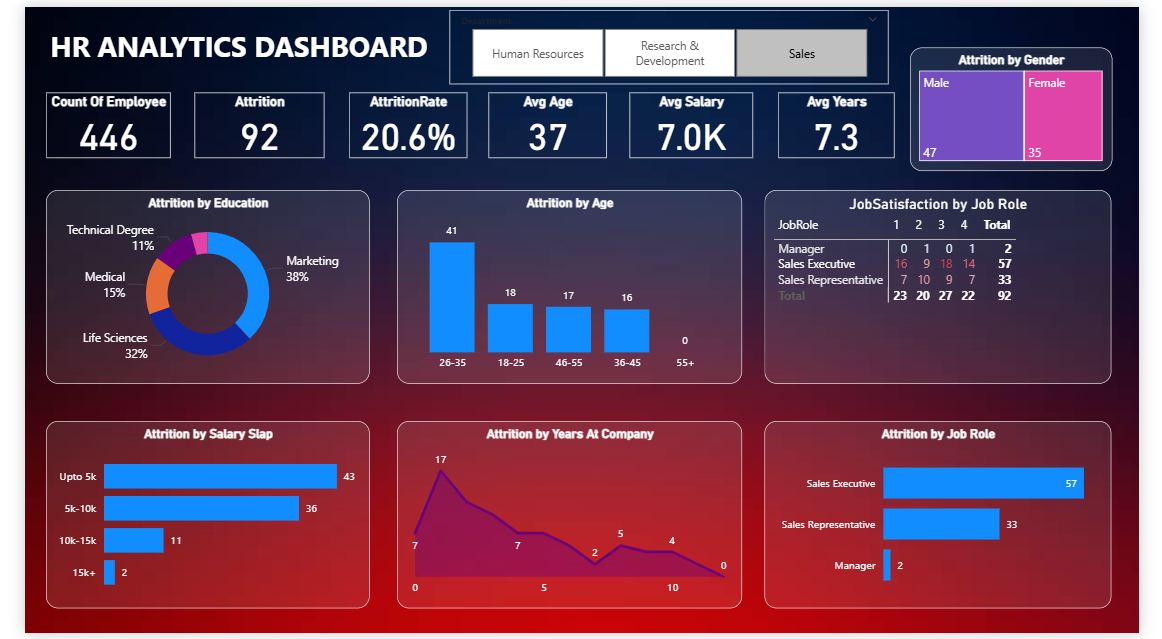

This screenshot's page, from the dashboard's own definition file:
{"tool":"powerbi","page":{"name":"Page 1","canvas":[1280,720],"ordinal":0},"visuals":[{"type":"card","title":"Count Of Employee","fields":{"Values":["CountNonNull(HR_Analytics.EmpID)"]},"box":[24.6,98.3,143.6,75.6],"z":0},{"type":"card","title":"Attrition","fields":{"Values":["Sum(HR_Analytics.AttritionCount)"]},"box":[194.6,98.3,149.3,75.6],"z":1000},{"type":"card","title":"AttritionRate","fields":{"Values":["HR_Analytics.AttritionRate"]},"box":[372.3,98.3,136.1,75.6],"z":2000},{"type":"card","title":"Avg Age","fields":{"Values":["Avg(HR_Analytics.Age)"]},"box":[532.9,98.3,136.1,75.6],"z":3000},{"type":"card","title":"Avg Salary","fields":{"Values":["Avg(HR_Analytics.MonthlyIncome)"]},"box":[695.4,98.3,141.7,75.6],"z":4000},{"type":"card","title":"Avg Years","fields":{"Values":["Avg(HR_Analytics.YearsAtCompany)"]},"box":[865.5,98.3,134.2,75.6],"z":5000},{"type":"donutChart","title":"Attrition by Education","fields":{"Category":["HR_Analytics.EducationField"],"Y":["Sum(HR_Analytics.AttritionCount)"]},"box":[24.6,209.8,372.3,223],"z":6000},{"type":"columnChart","title":"Attrition by Age","fields":{"Category":["HR_Analytics.AgeGroup"],"Y":["Sum(HR_Analytics.AttritionCount)"]},"box":[427.1,209.8,396.9,223],"z":7000},{"type":"pivotTable","title":"JobSatisfaction by Job Role","fields":{"Rows":["HR_Analytics.JobRole"],"Columns":["HR_Analytics.JobSatisfaction"],"Values":["Sum(HR_Analytics.AttritionCount)"]},"box":[850.4,209.8,398.7,223],"z":8000},{"type":"barChart","title":"Attrition by Salary Slap","fields":{"Category":["HR_Analytics.SalarySlab"],"Y":["Sum(HR_Analytics.AttritionCount)"]},"box":[24.6,476.2,372.3,215.4],"z":9000},{"type":"barChart","title":"Attrition by Job Role","fields":{"Category":["HR_Analytics.JobRole"],"Y":["Sum(HR_Analytics.AttritionCount)"]},"box":[850.4,476.2,398.7,215.4],"z":10000},{"type":"areaChart","title":"Attrition by Years At Company","fields":{"Category":["HR_Analytics.YearsAtCompany"],"Y":["Sum(HR_Analytics.AttritionCount)"]},"box":[427.1,476.2,396.9,215.4],"z":11000},{"type":"treemap","title":"Attrition by Gender","fields":{"Group":["HR_Analytics.Gender"],"Values":["Sum(HR_Analytics.AttritionCount)"]},"box":[1016.7,47.2,232.4,141.7],"z":12000},{"type":"slicer","fields":{"Values":["HR_Analytics.Department"]},"box":[487.6,3.8,504.6,85],"z":13000},{"type":"textbox","box":[24.6,17,463,68],"z":13001}]}

Visuals, with their boxes in screenshot pixels (x1, y1, x2, y2), scaled from the page's 1280x720 canvas onto the 1162x639 screenshot:
"Count Of Employee" card: box=[22, 87, 153, 154]
"Attrition" card: box=[177, 87, 312, 154]
"AttritionRate" card: box=[338, 87, 462, 154]
"Avg Age" card: box=[484, 87, 607, 154]
"Avg Salary" card: box=[631, 87, 760, 154]
"Avg Years" card: box=[786, 87, 908, 154]
"Attrition by Education" donutChart: box=[22, 186, 360, 384]
"Attrition by Age" columnChart: box=[388, 186, 748, 384]
"JobSatisfaction by Job Role" pivotTable: box=[772, 186, 1134, 384]
"Attrition by Salary Slap" barChart: box=[22, 423, 360, 614]
"Attrition by Job Role" barChart: box=[772, 423, 1134, 614]
"Attrition by Years At Company" areaChart: box=[388, 423, 748, 614]
"Attrition by Gender" treemap: box=[923, 42, 1134, 168]
slicer - HR_Analytics.Department: box=[443, 3, 901, 79]
textbox: box=[22, 15, 443, 75]
